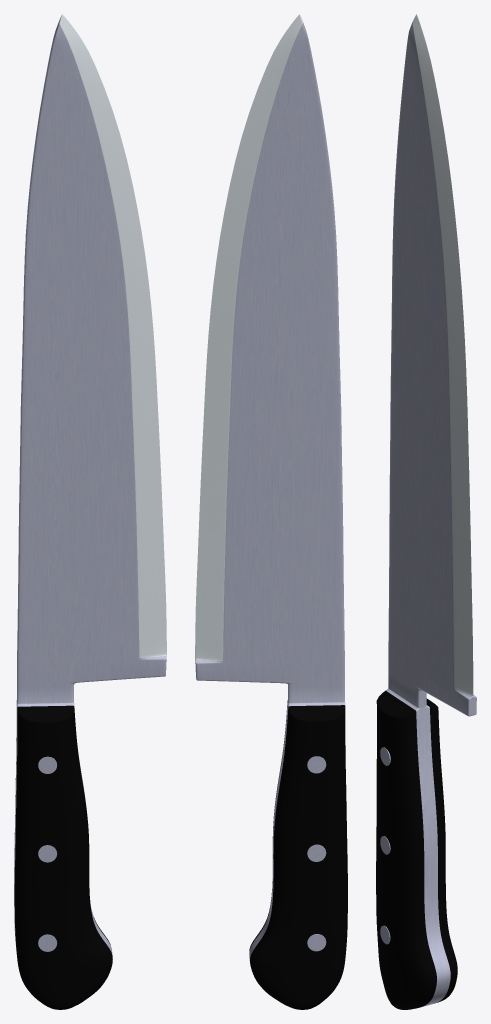
File: knife.glb
The picture shows the model from 3 angles, left to right: view 1: azimuth 30°, elevation 25°; view 2: azimuth 210°, elevation 25°; view 3: azimuth 330°, elevation 25°; orthographic projection.
Visible parts, largest first — view 1: blade_final; view 2: blade_final; view 3: blade_final.
Part boxes in pixels (x1,y1,x2,y2): blade_final: (14,14,166,1009); blade_final: (195,14,347,1009); blade_final: (376,14,476,1009).
Bounding box in the file's own units: 0.0558 × 0.4247 × 0.0351.
1 material, 1 textured.
